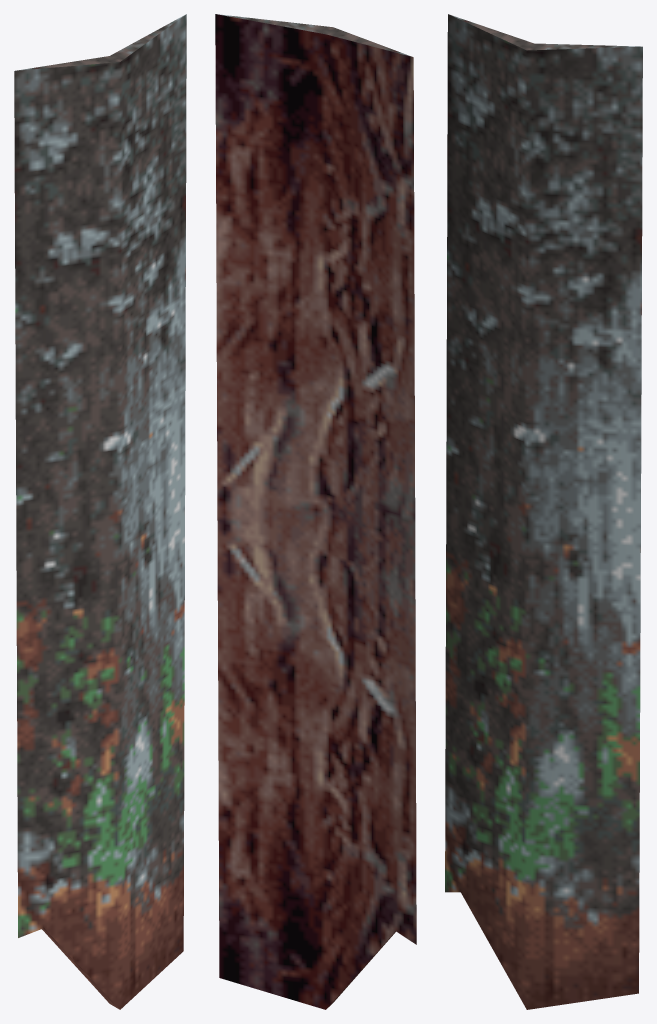
The model's file is fp_plank.glb.
3 renders of one model, left to right at view 1: azimuth 30°, elevation 25°; view 2: azimuth 150°, elevation 25°; view 3: azimuth 330°, elevation 25°, orthographic. The views are drawn at different scales.
Parts seen in each view (by area): view 1: _MeshInstance3D_37; view 2: _MeshInstance3D_37; view 3: _MeshInstance3D_37.
Part boxes in pixels (left/top/right/bottom): _MeshInstance3D_37: left=14, top=14, right=186, bottom=1009; _MeshInstance3D_37: left=215, top=14, right=416, bottom=1009; _MeshInstance3D_37: left=445, top=14, right=642, bottom=1009.
Bounding box in the file's own units: 0.1782 × 0.8917 × 0.0407.
Materials: 1 (1 with a texture image).
